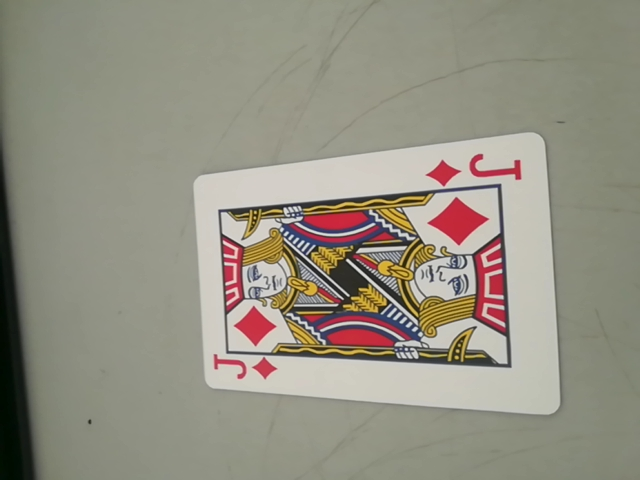fk j: (428, 152, 527, 190), (210, 351, 281, 389)
